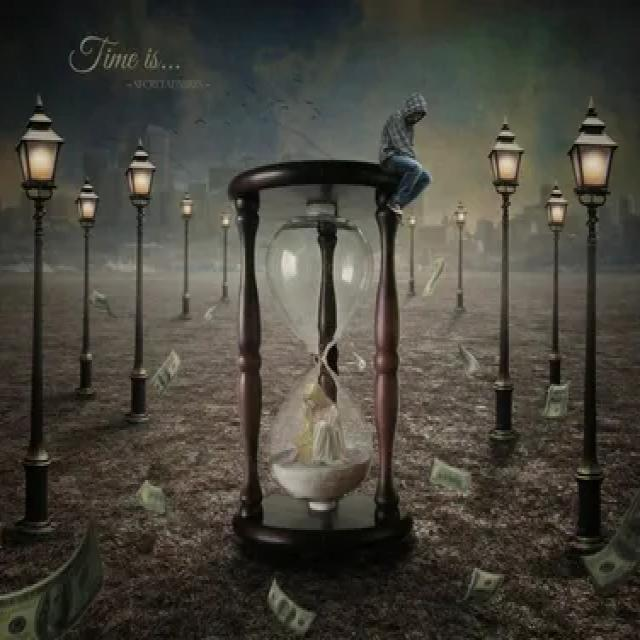clock: (221, 147, 420, 572)
